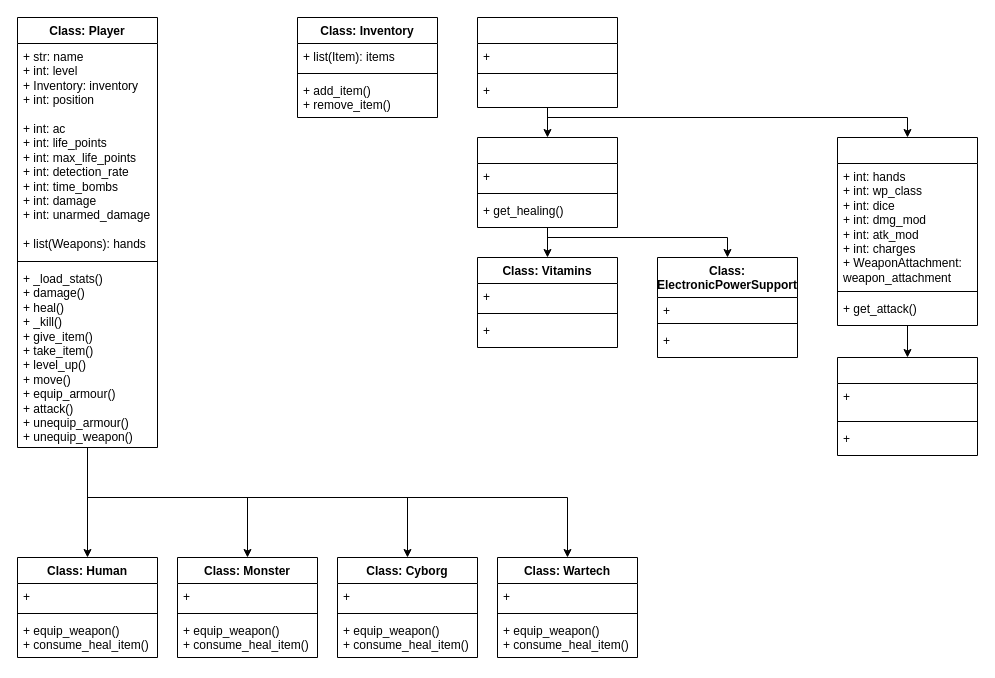
Image size: 995x678. Some labels were removed from this diagram. Here are the shapes that lost their labels. From the top down, the box of each, then its label:
(476, 16, 618, 108): Class: Item
(476, 136, 618, 228): Class: HealingItem
(836, 136, 978, 326): Class: Weapon
(836, 356, 978, 456): Class: EmptyWeapon
